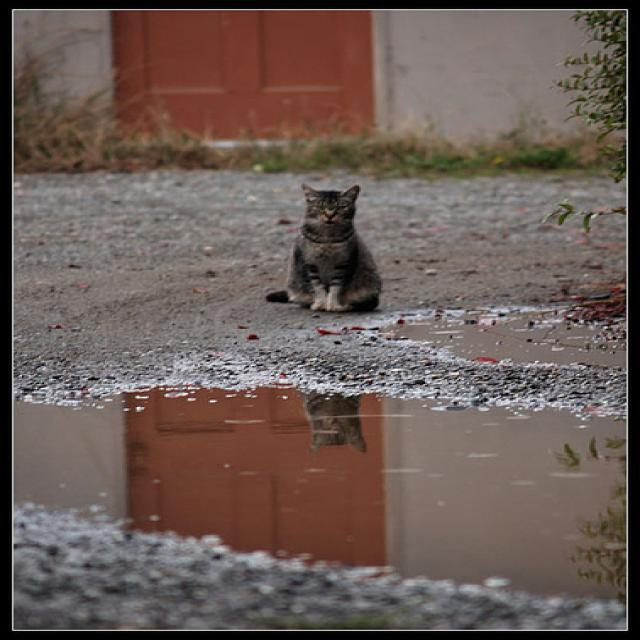cat: (265, 183, 382, 313)
